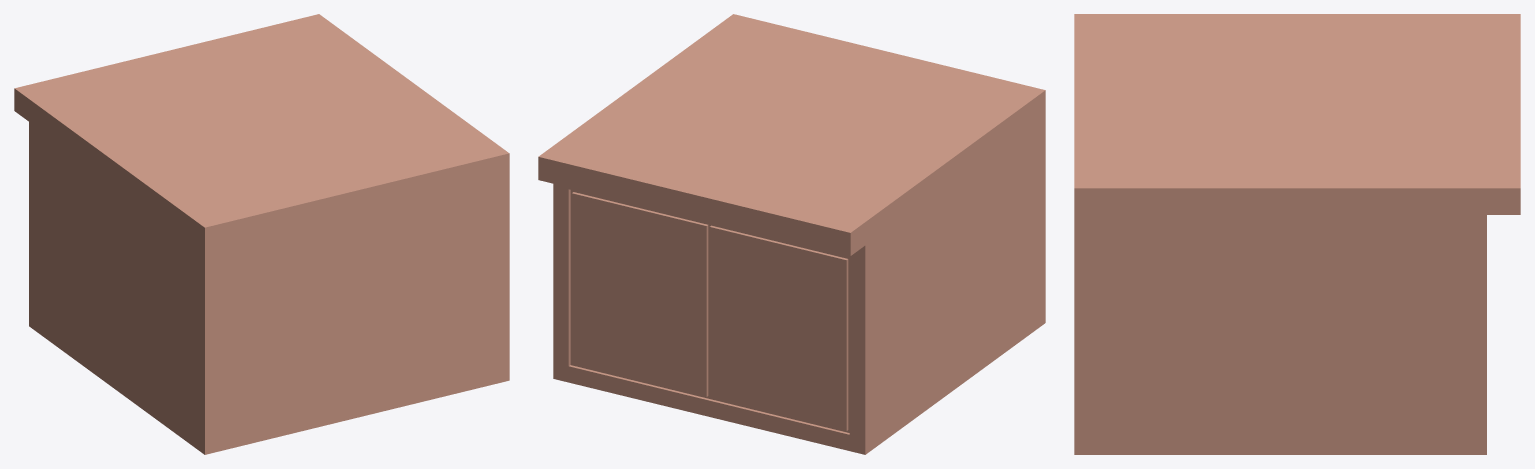
File: Barra_De_Cosina_001.fbx
3 renders of one model, left to right at view 1: azimuth 30°, elevation 25°; view 2: azimuth 150°, elevation 25°; view 3: azimuth 270°, elevation 25°, orthographic. The views are drawn at different scales.
Parts seen in each view (by area): view 1: Barra_De_Cosina_002; view 2: Barra_De_Cosina_002; view 3: Barra_De_Cosina_002.
Boxes of the visible parts, left/top/right/bottom form: Barra_De_Cosina_002: left=14, top=14, right=509, bottom=454; Barra_De_Cosina_002: left=538, top=14, right=1045, bottom=454; Barra_De_Cosina_002: left=1074, top=14, right=1520, bottom=454.
Bounding box in the file's own units: 0.02 × 0.0143 × 0.0216.
